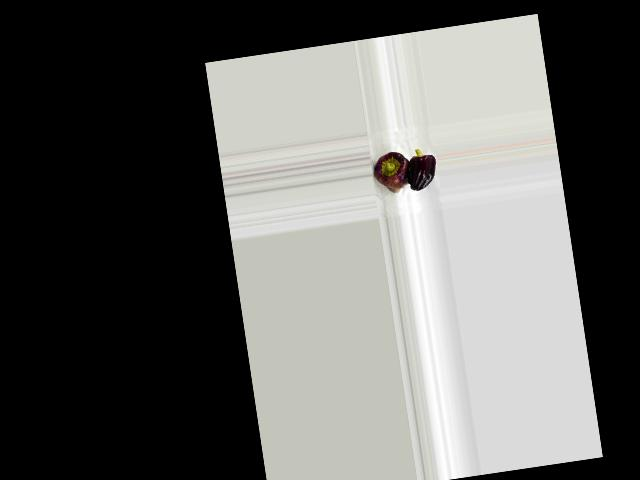bell_pepper: (369, 141, 415, 202)
